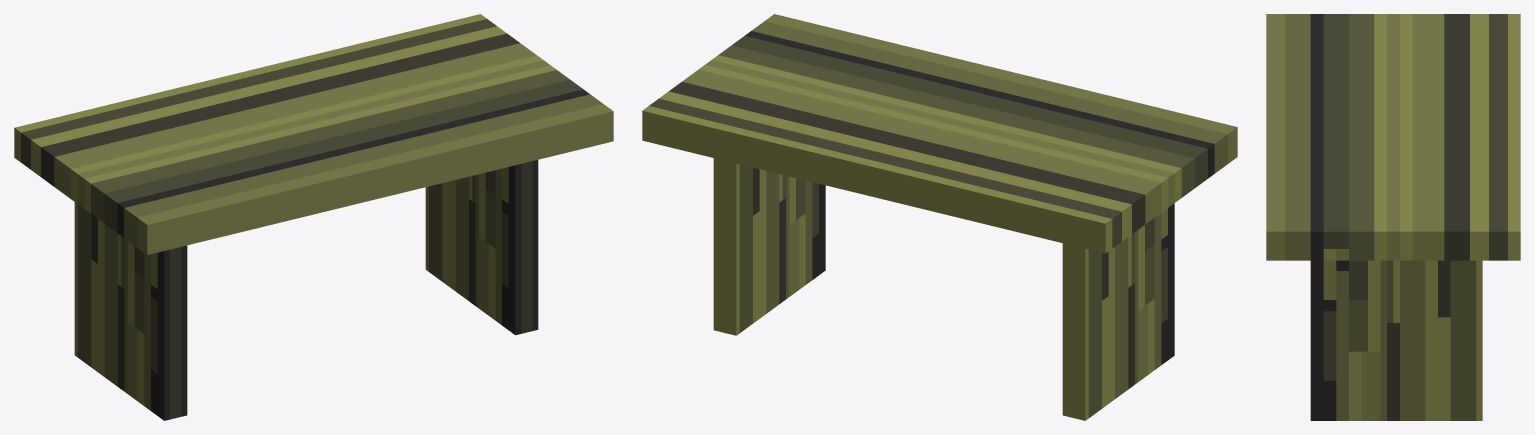
Rendered from Nha-17.obj.
3 views of the same model, side by side, from view 1: azimuth 30°, elevation 25°; view 2: azimuth 150°, elevation 25°; view 3: azimuth 270°, elevation 25° (orthographic). The views are drawn at different scales.
Size of the model in its own units: 8.1 by 3.7 by 4.
1 material, 1 textured.
